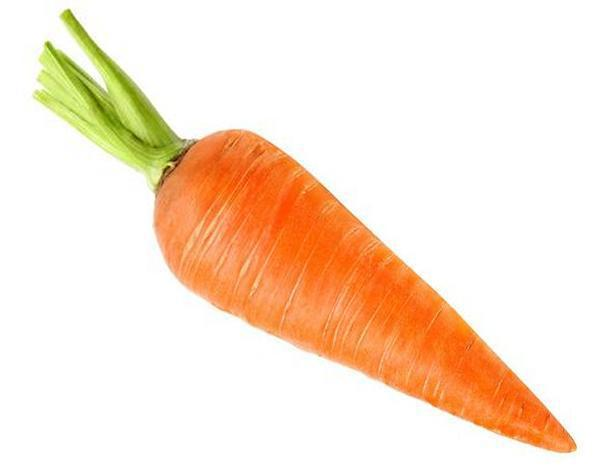carrot: (82, 83, 583, 460)
